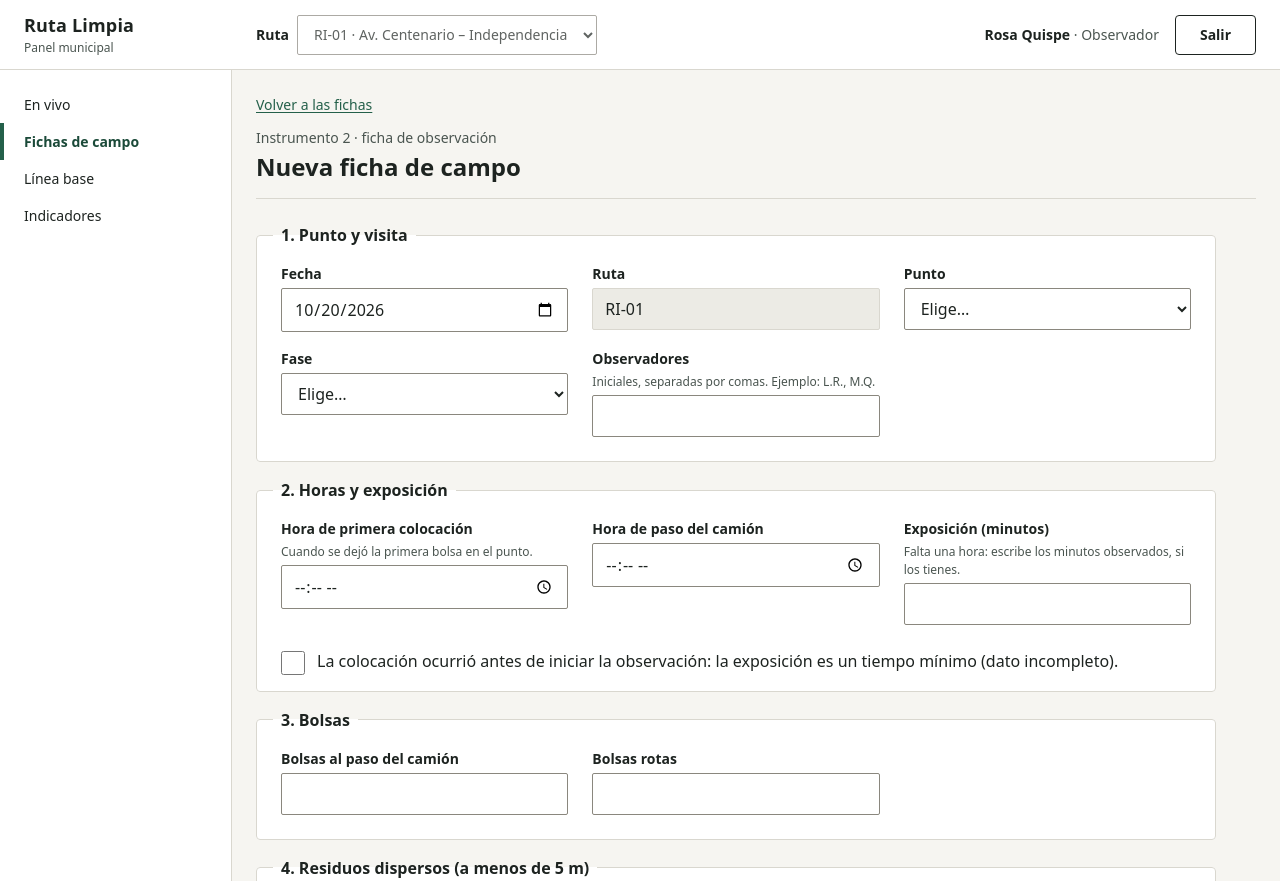
FieldSheetEditorPage › computes the exposure from the two times, and asks for it only when one is missing
The image size is (1280, 881).
Type "06:40" into the time field labelled "Hora de primera colocación".
click(425, 587); type("06:40")  # box [281,565,568,609]
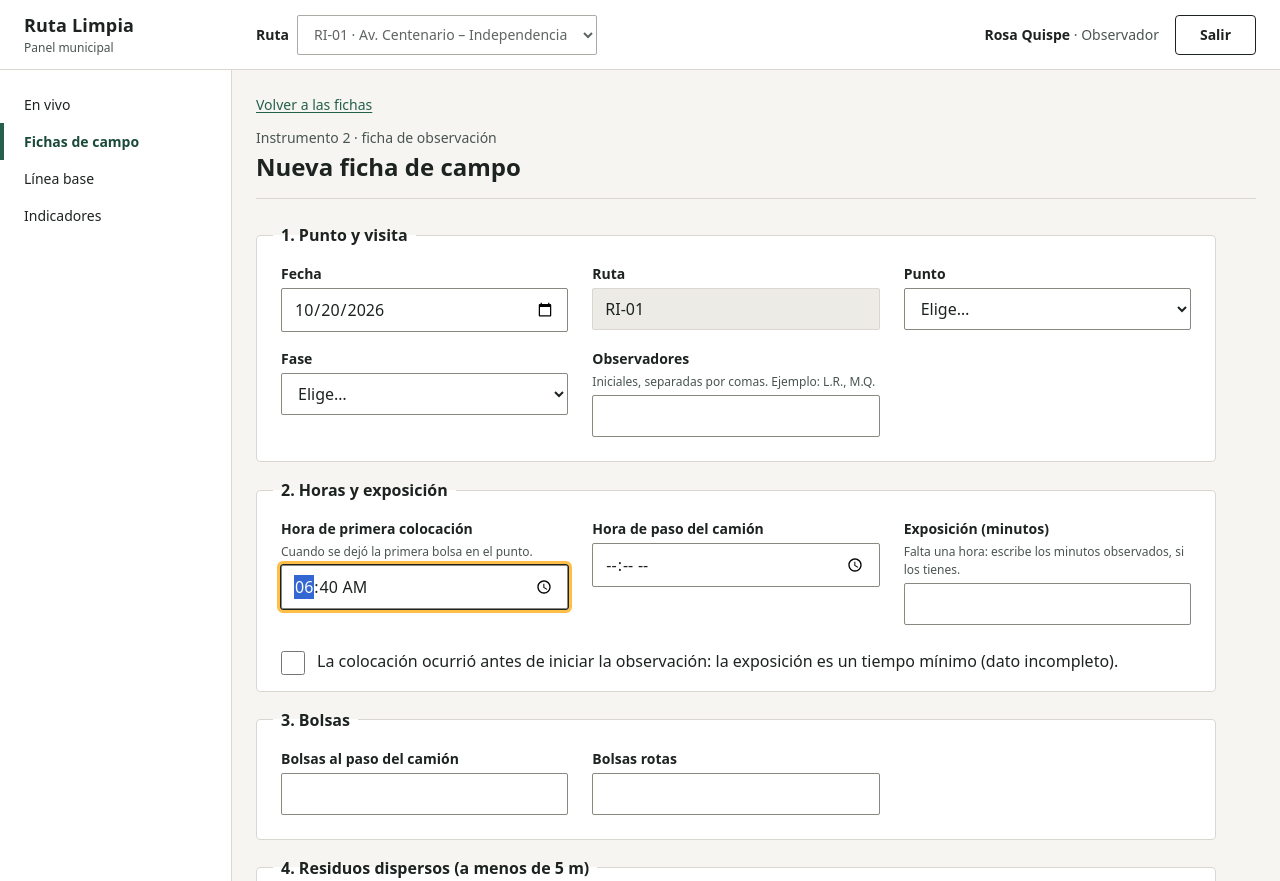
Type "07:55" into the time field labelled "Hora de paso del camión".
click(736, 565); type("07:55")  # box [592,543,880,587]
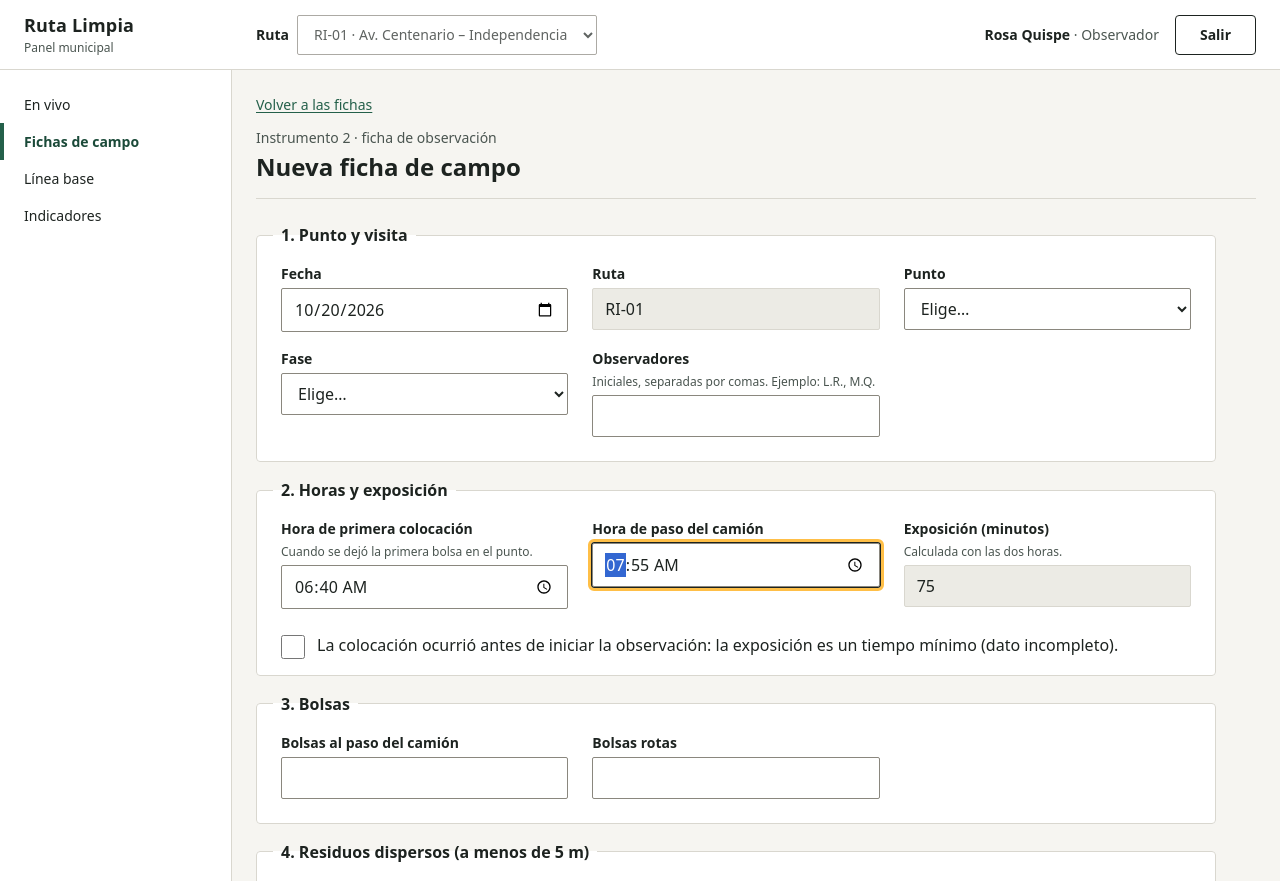
Now the field labelled "Exposición (minutos)" holds "75", box [904,565,1191,607]
